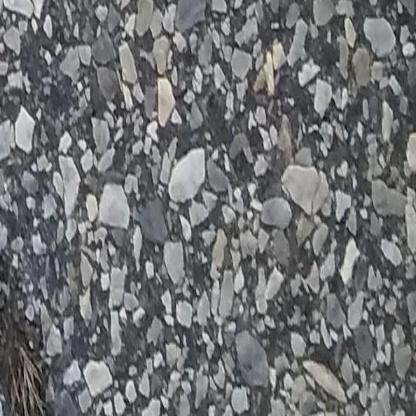Cracks: (0, 234, 72, 416)
